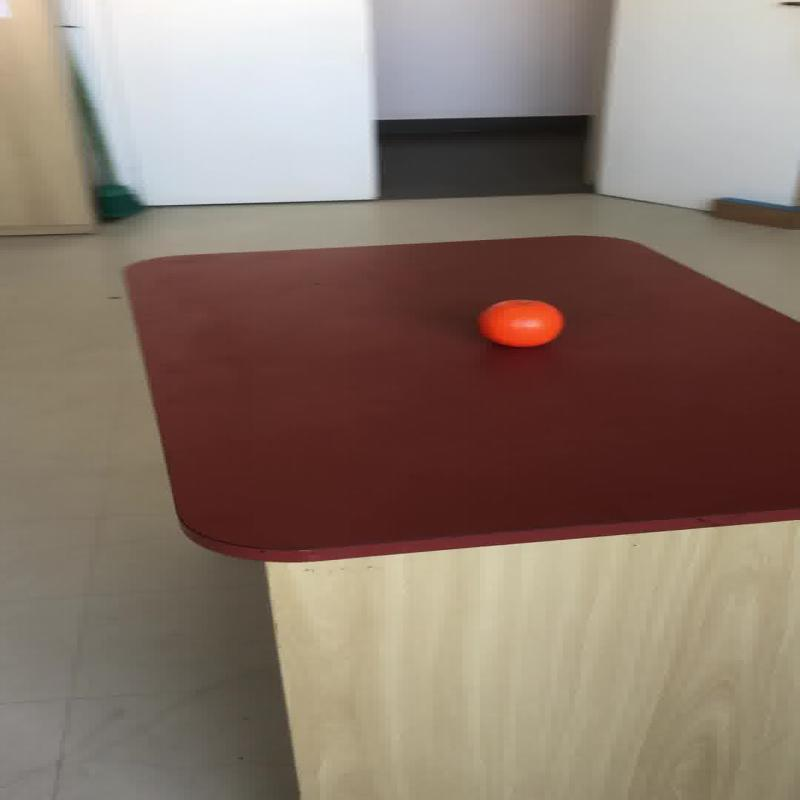orange: (476, 298, 564, 347)
